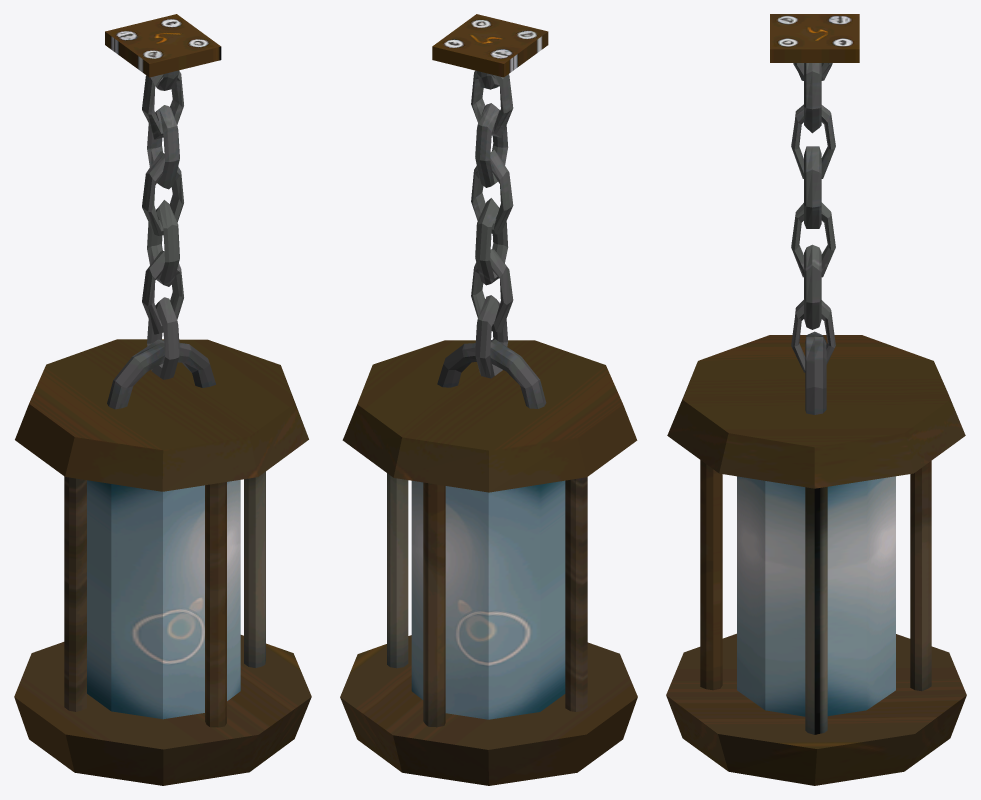
File: Lantern.glb
The picture shows the model from 3 angles, left to right: view 1: azimuth 30°, elevation 25°; view 2: azimuth 150°, elevation 25°; view 3: azimuth 270°, elevation 25°; orthographic projection.
Visible parts, largest first — view 1: Lantern; view 2: Lantern; view 3: Lantern.
Part boxes in pixels (box(x1,y1,x2,y2)): Lantern: box(14, 14, 311, 785); Lantern: box(340, 14, 637, 785); Lantern: box(666, 14, 966, 785).
Bounding box in the file's own units: 289 × 750 × 294.
1 material, 1 textured.
